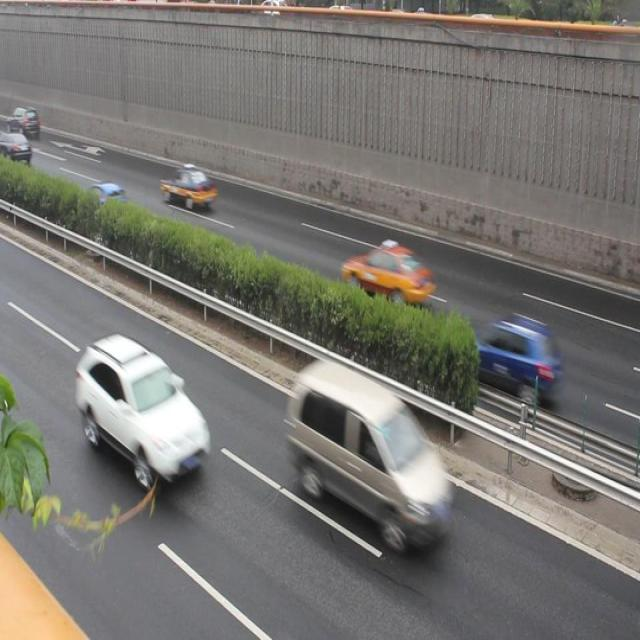car: (75, 334, 207, 478), (458, 312, 556, 398), (340, 242, 431, 307), (70, 180, 126, 230), (160, 164, 216, 208)
truck: (285, 359, 450, 548)
